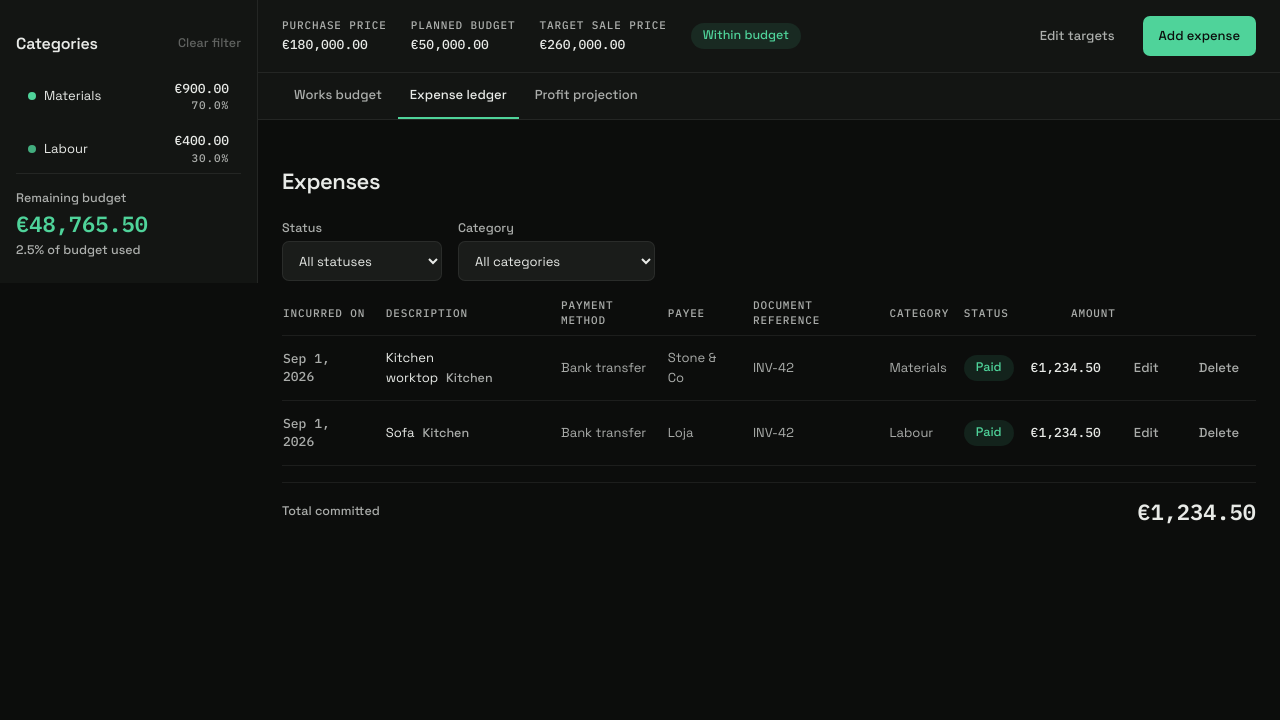
Test case: AppShell › keeps the category filter applied across a tab switch
Check: the text "Kitchen worktop" is shown, box [386,350,438,386]
Click the button "Labour €400.00 30.0%" at (128, 149), box [16,124,241,173]
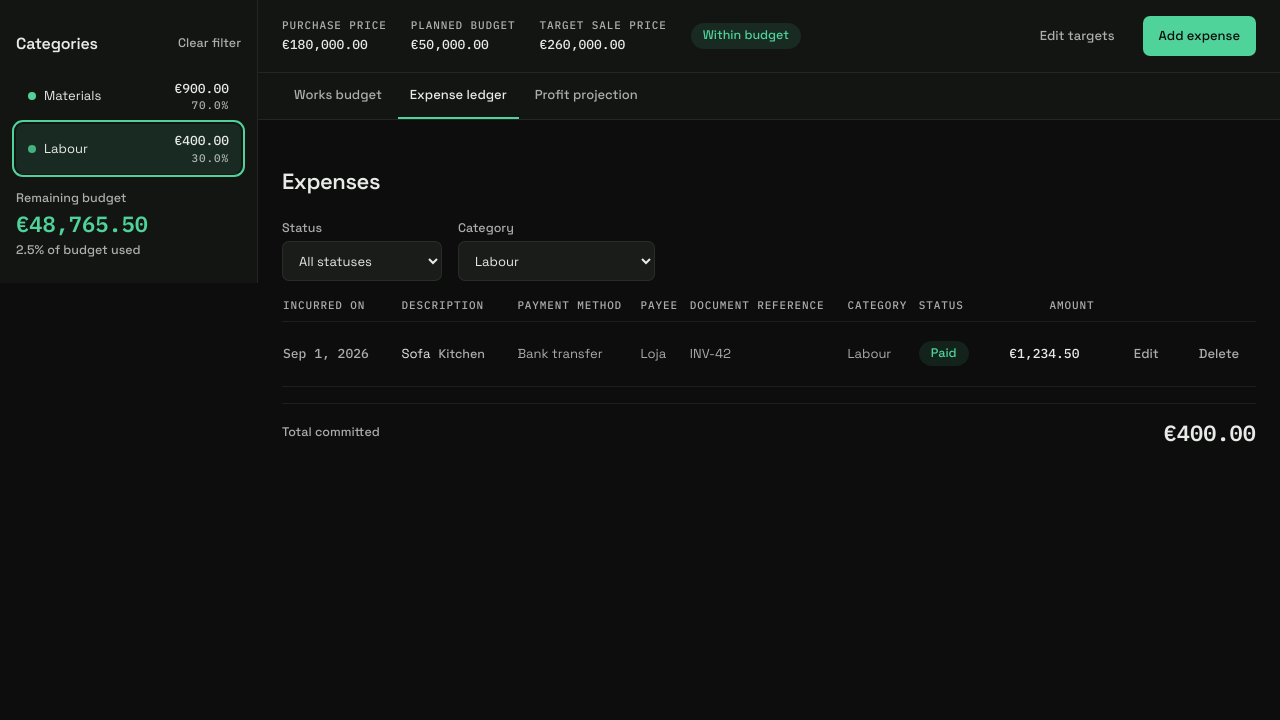
Check: the text "Kitchen worktop" is gone
Click the tab "Works budget" at (338, 96), box [282,73,394,118]
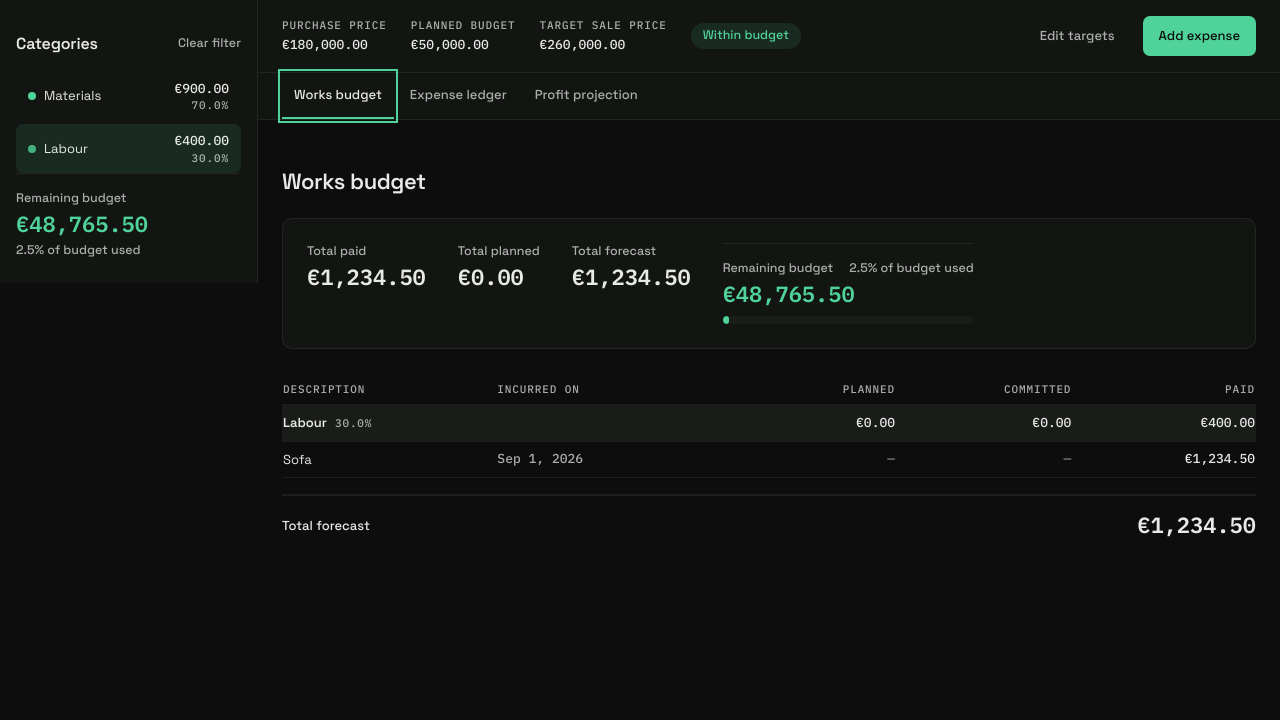
Check: the text "Sofa" is shown, box [282,441,496,478]
Check: the tab "Works budget" is selected, box [282,73,394,118]
Click the tab "Expense ledger" at (458, 96), box [398,73,519,118]
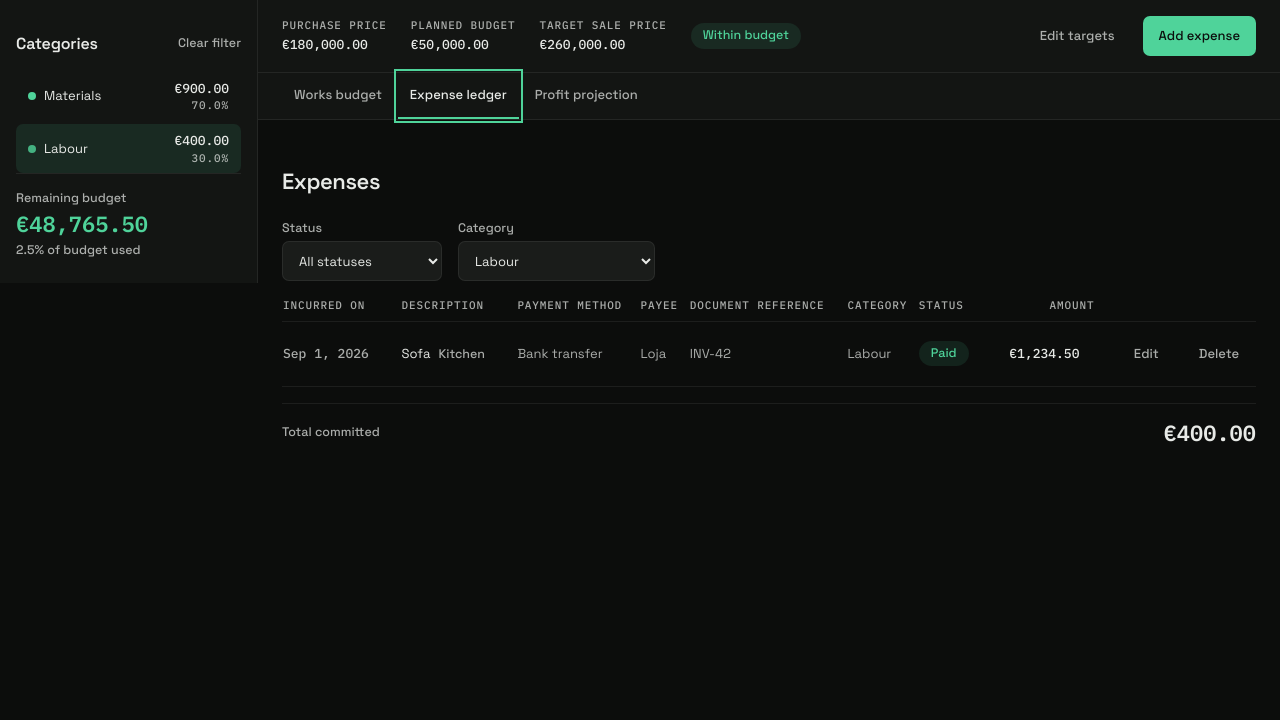
Check: the text "Kitchen worktop" is not shown
Check: the text "Sofa" is shown, box [402,345,430,362]
